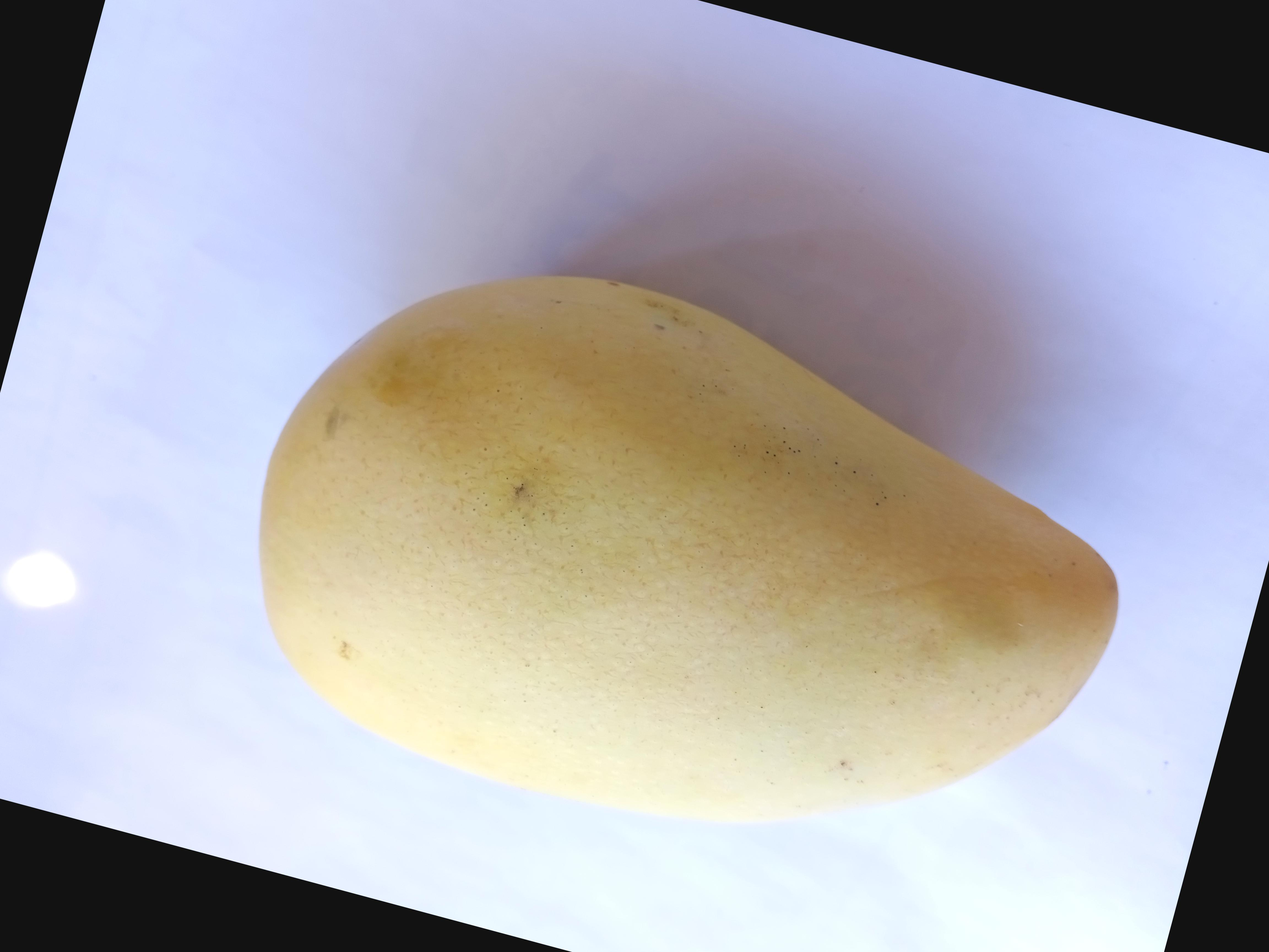Mango Ripe: (301, 0, 1269, 791)
